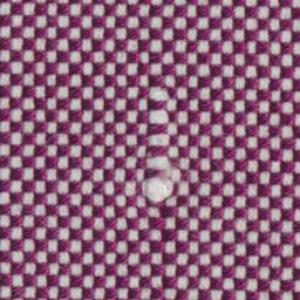defect: (134, 59, 180, 205)
